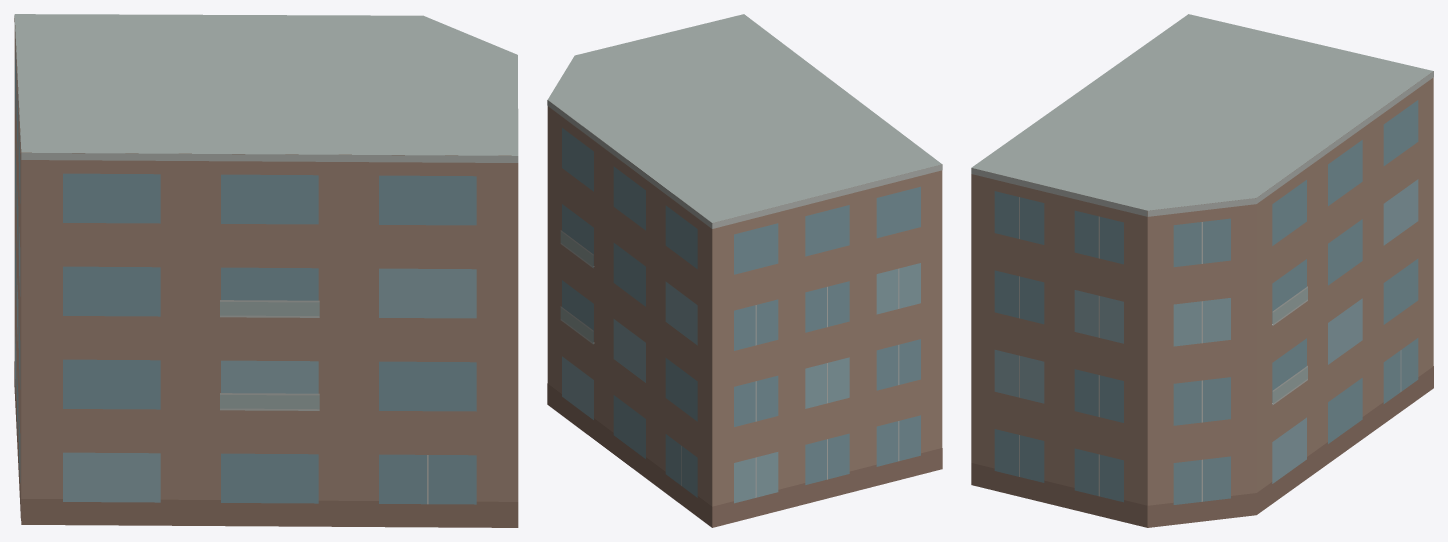
Rendered from survey-upis-32673927.glb.
The picture shows the model from 3 angles, left to right: view 1: azimuth 30°, elevation 25°; view 2: azimuth 150°, elevation 25°; view 3: azimuth 270°, elevation 25°; orthographic projection. The views are drawn at different scales.
Parts seen in each view (by area): view 1: survey-upis-32673927.tmp; view 2: survey-upis-32673927.tmp; view 3: survey-upis-32673927.tmp.
Boxes of the visible parts, <box> form: survey-upis-32673927.tmp: <box>14,14,518,527</box>; survey-upis-32673927.tmp: <box>547,14,942,527</box>; survey-upis-32673927.tmp: <box>971,14,1433,527</box>.
Bounding box in the file's own units: 16.63 × 12.5 × 16.53.
